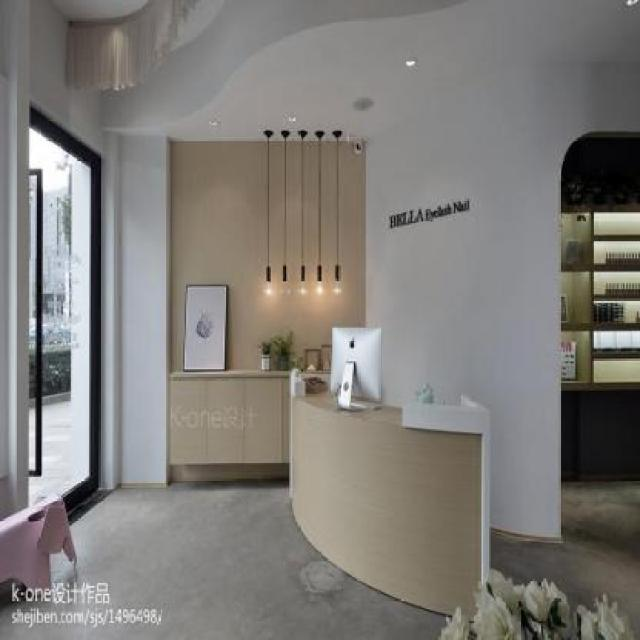frontdesk: (280, 364, 502, 620)
